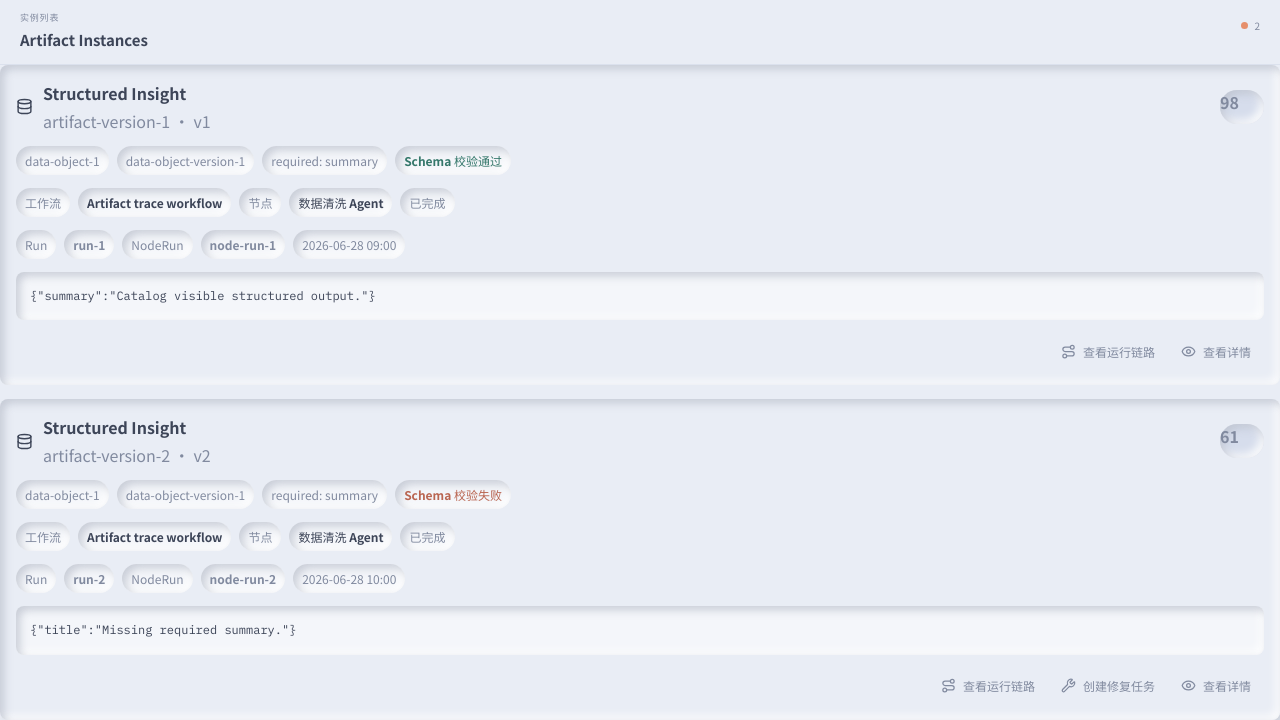
Scenario: Artifacts page › shows schema validation status and failure reasons
(page scrolled)
Expected: the text "artifact-version-1 · v1" is shown, left=43, top=109, right=211, bottom=133
Click the button with aria-label "查看 artifact-version-2 详情".
click(1216, 686)  # box left=1168, top=668, right=1264, bottom=704
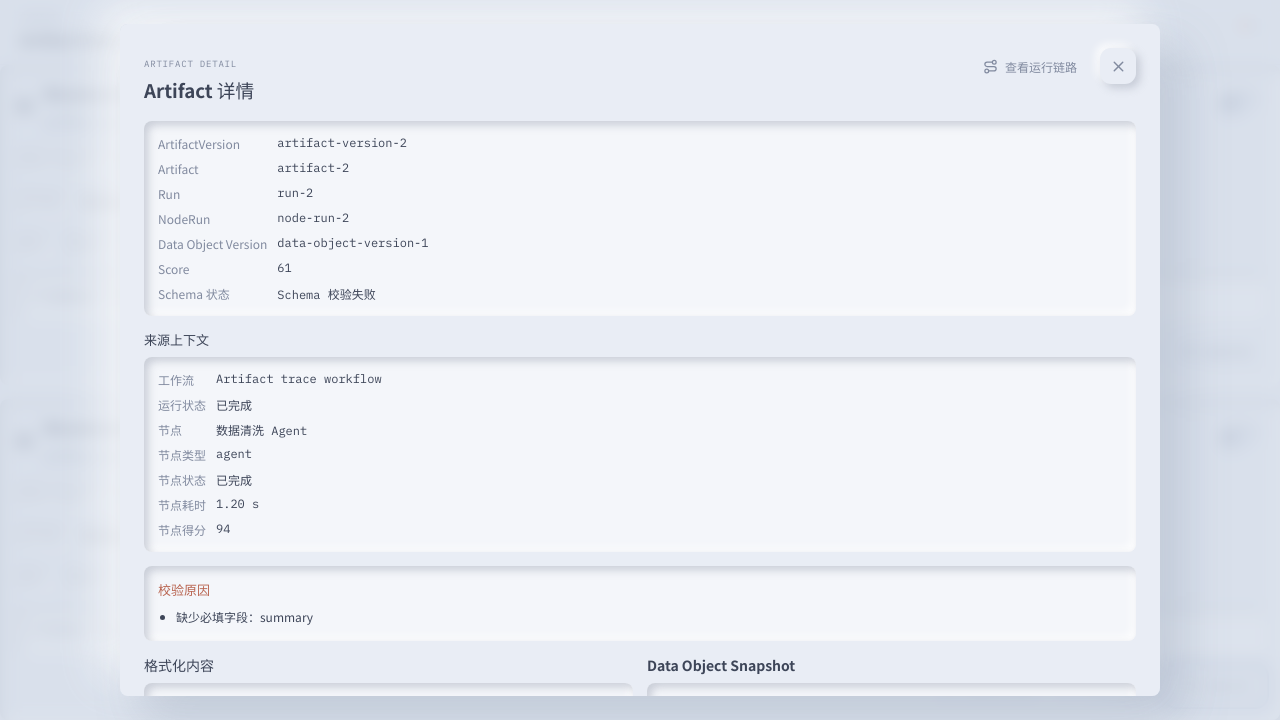
Expected: the dialog "Artifact 详情" shows "Schema 校验失败", left=277, top=287, right=376, bottom=302
Expected: the dialog "Artifact 详情" shows "缺少必填字段：summary", left=176, top=608, right=313, bottom=625
